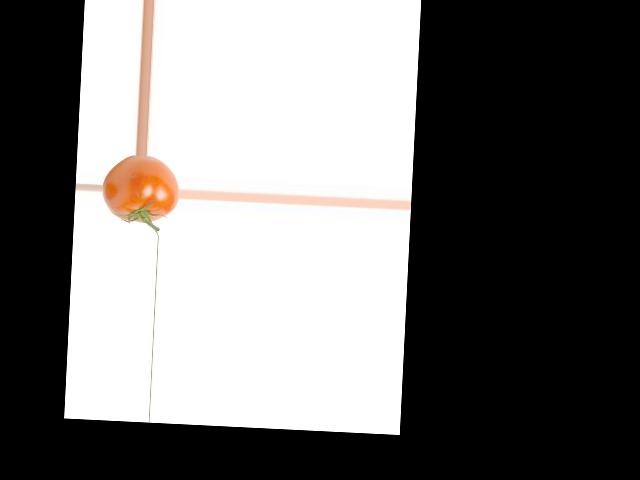tomato: (100, 154, 180, 224)
